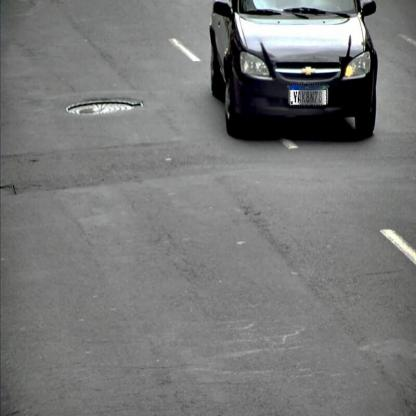PlacaM: (290, 84, 326, 106)
